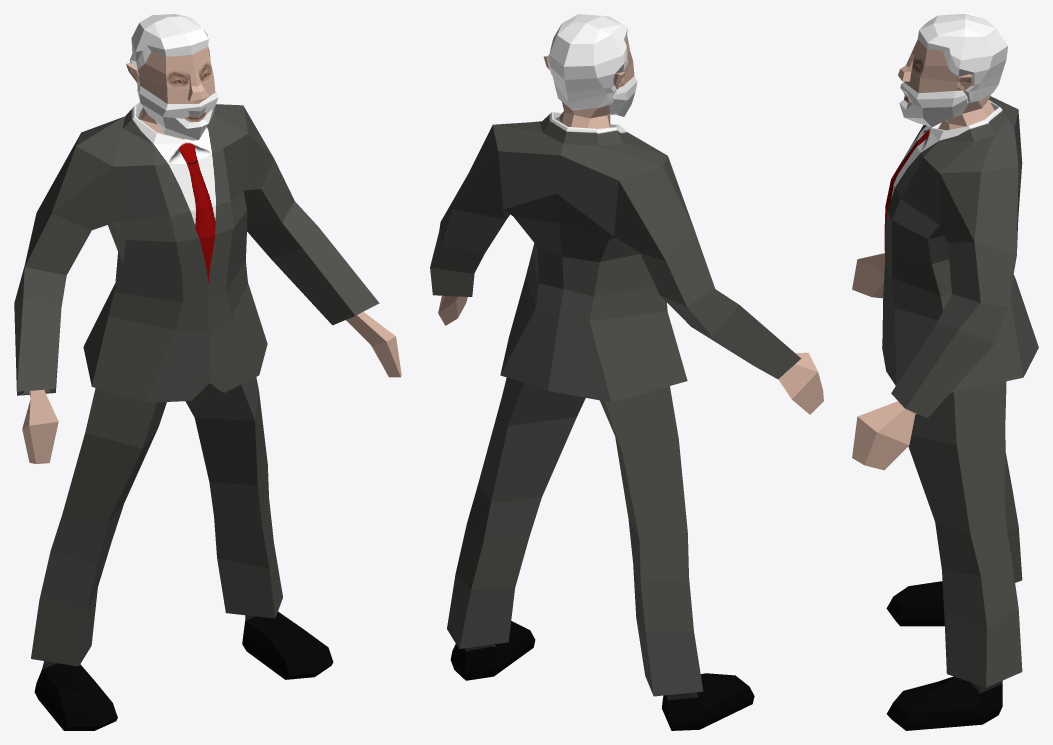
File: Lula.fbx
3 views of the same model, side by side, from view 1: azimuth 30°, elevation 25°; view 2: azimuth 150°, elevation 25°; view 3: azimuth 270°, elevation 25° (orthographic). The views are drawn at different scales.
Parts seen in each view (by area): view 1: Lula; view 2: Lula; view 3: Lula.
Boxes of the visible parts, <box> form: Lula: <box>14,14,401,730</box>; Lula: <box>430,14,823,730</box>; Lula: <box>852,14,1038,730</box>.
Bounding box in the file's own units: 336 × 578 × 151.
1 material, 1 textured.
